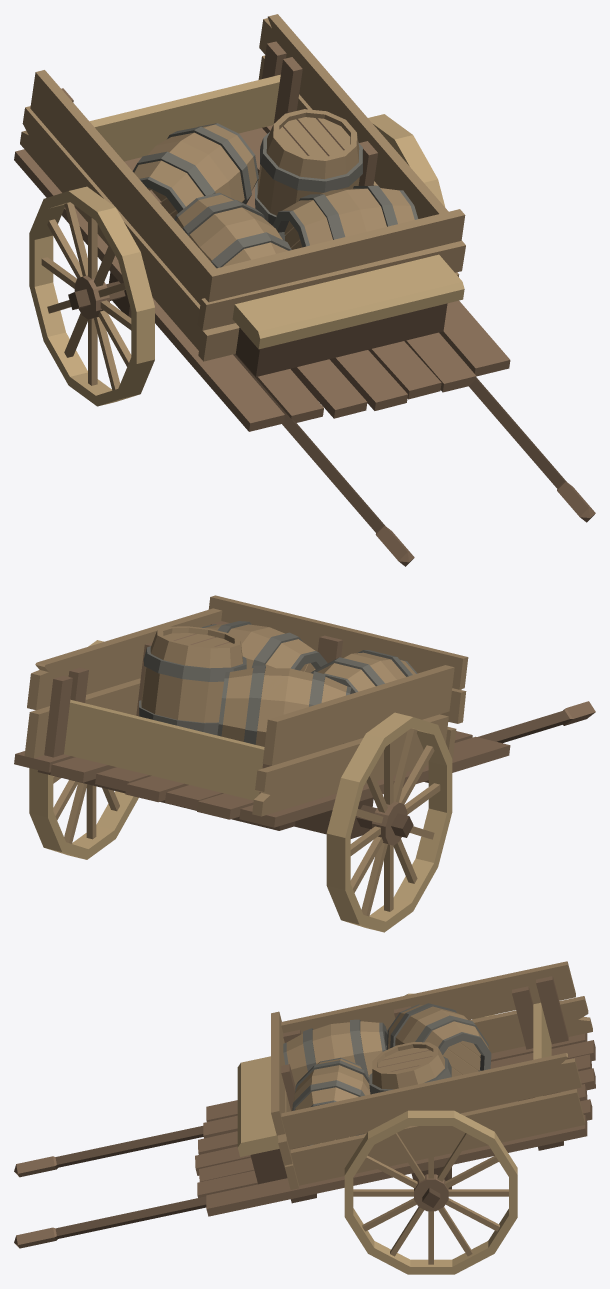
The model's file is Prop_Cart_1_Barrels.glb.
3 renders of one model, top to bottom at view 1: azimuth 30°, elevation 25°; view 2: azimuth 150°, elevation 25°; view 3: azimuth 270°, elevation 25°, orthographic. The views are drawn at different scales.
Parts seen in each view (by area): view 1: Prop_Cart_1_Barrels; view 2: Prop_Cart_1_Barrels; view 3: Prop_Cart_1_Barrels.
Boxes of the visible parts, x1=… form: Prop_Cart_1_Barrels: x1=14, y1=14, x2=595, y2=566; Prop_Cart_1_Barrels: x1=14, y1=595, x2=595, y2=932; Prop_Cart_1_Barrels: x1=14, y1=961, x2=595, y2=1274.
Bounding box in the file's own units: 1.8 × 1.3 × 3.36.
